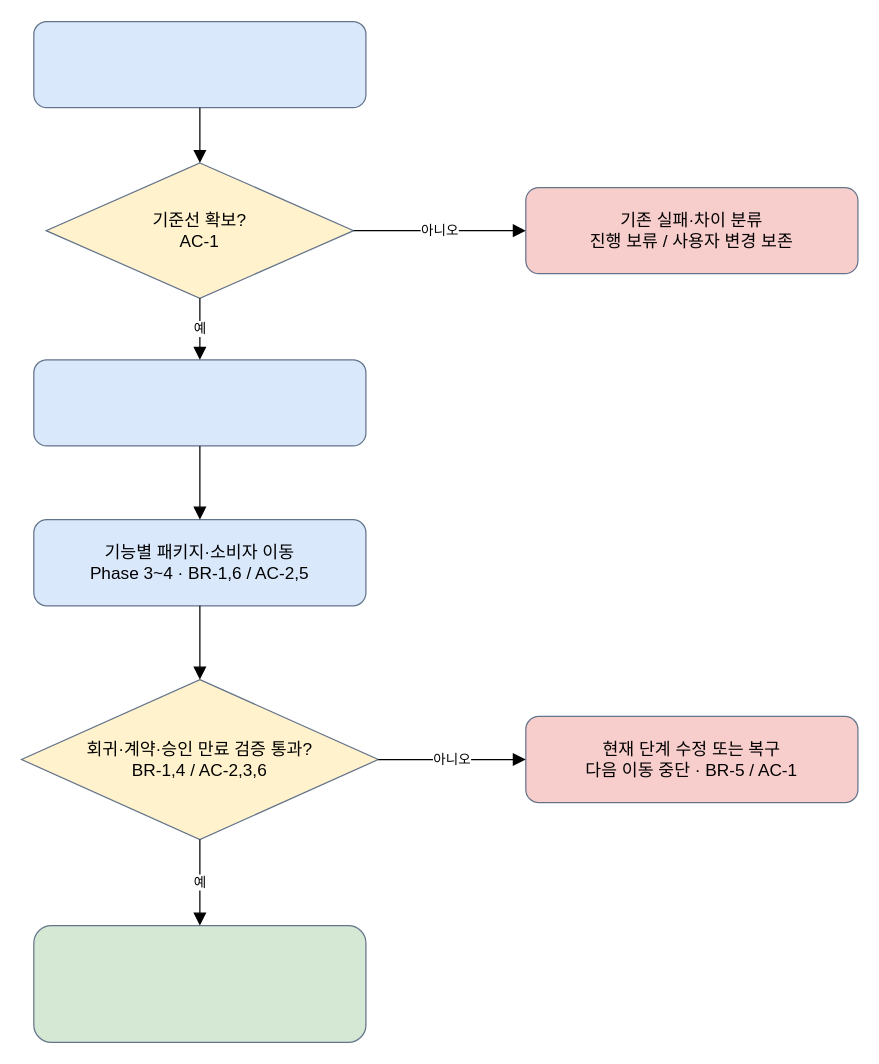
Some shapes in this 879 by 1064 pixel diagram are drawn without their labels. The centre of each missing label's shape, as x and y in pixels:
"공통 경계·DB schema 분리 Phase 1~2 · BR-2,3 / AC-3,4" goes at pixel 199 402.
"기존 변경·계약·테스트 기준선 Phase 0 · BR-5 / AC-1" goes at pixel 199 64.
"문서·소유권 정리 및 통합 검증 보안 검토·인계 / Phase 5~6 BR-5,6 / AC-7,8" goes at pixel 199 983.
